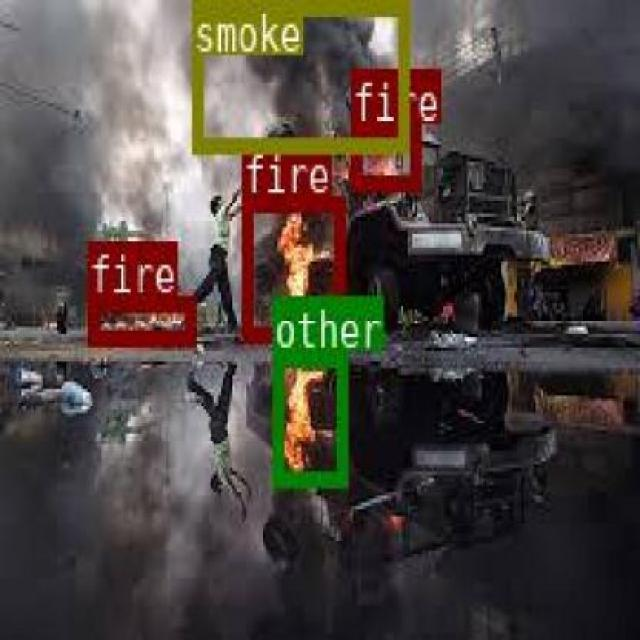Fire: (240, 194, 342, 338), (86, 294, 194, 344), (349, 124, 418, 187)
Smoke: (190, 0, 406, 148)
